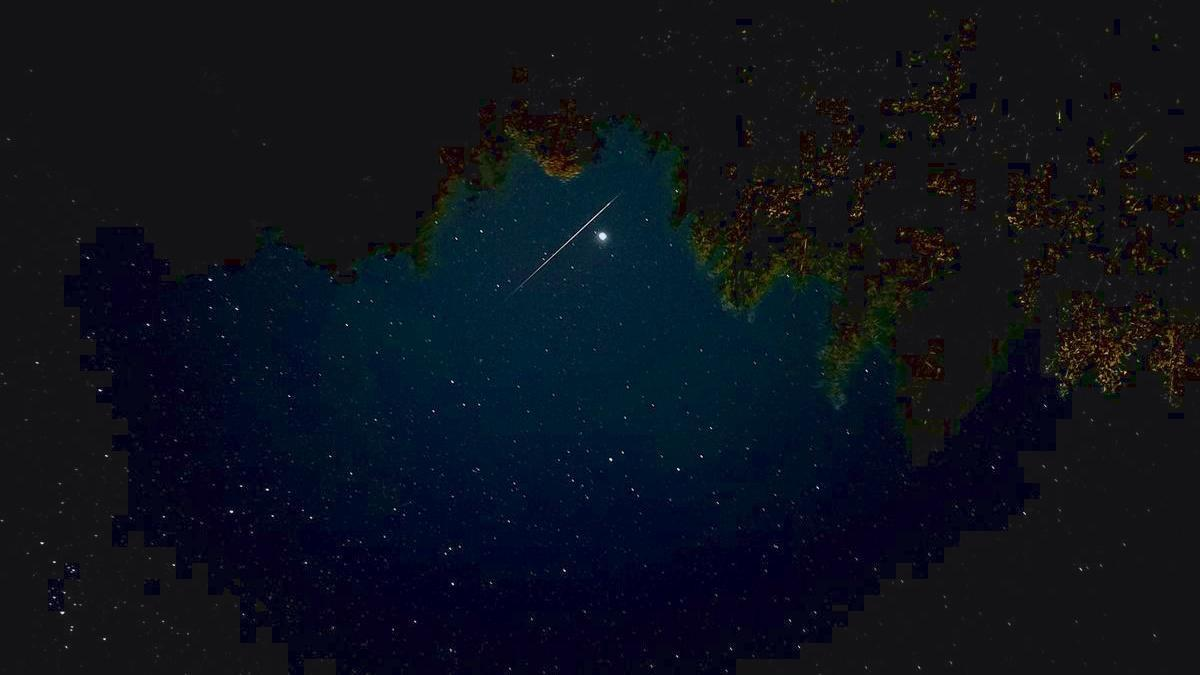meteorite: (559, 190, 628, 252)
